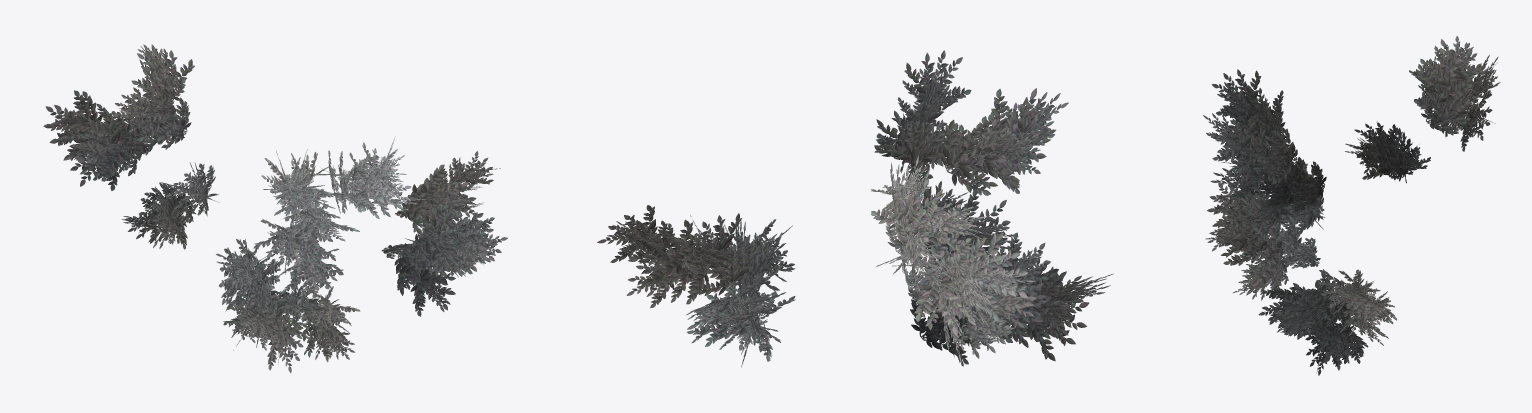
Rendered from jungle_giant_l0.gltf.
The picture shows the model from 3 angles, left to right: view 1: azimuth 30°, elevation 25°; view 2: azimuth 150°, elevation 25°; view 3: azimuth 270°, elevation 25°; orthographic projection. The views are drawn at different scales.
Parts seen in each view (by area): view 1: jungle_giant_l0; view 2: jungle_giant_l0; view 3: jungle_giant_l0.
Part boxes in pixels (x1,y1,x2,y2): jungle_giant_l0: (43, 44, 507, 372); jungle_giant_l0: (597, 50, 1113, 367); jungle_giant_l0: (1203, 36, 1500, 375).
Bounding box in the file's own units: 20.13 × 13.89 × 15.01.
1 material, 1 textured.
